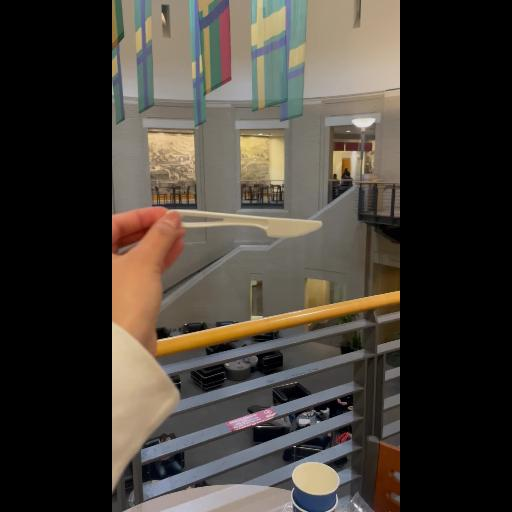utensil: (162, 207, 324, 241)
